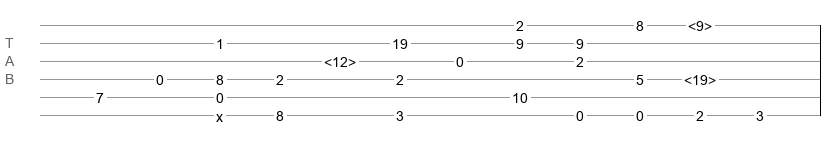0: (156, 72, 164, 82), (216, 90, 224, 100), (456, 54, 464, 64), (576, 108, 584, 118), (636, 108, 644, 118)
1: (216, 36, 224, 46)
10: (512, 90, 528, 100)
19: (392, 36, 408, 46)
2: (276, 72, 284, 82), (396, 72, 404, 82), (516, 18, 524, 28), (576, 54, 584, 64), (696, 108, 704, 118)
3: (396, 108, 404, 118), (756, 108, 764, 118)
5: (636, 72, 644, 82)
7: (96, 90, 104, 100)
8: (216, 72, 224, 82), (276, 108, 284, 118), (636, 18, 644, 28)
9: (516, 36, 524, 46), (576, 36, 584, 46)
harmonic: (324, 54, 356, 64), (684, 72, 716, 82), (688, 18, 712, 28)
x: (216, 109, 223, 117)
